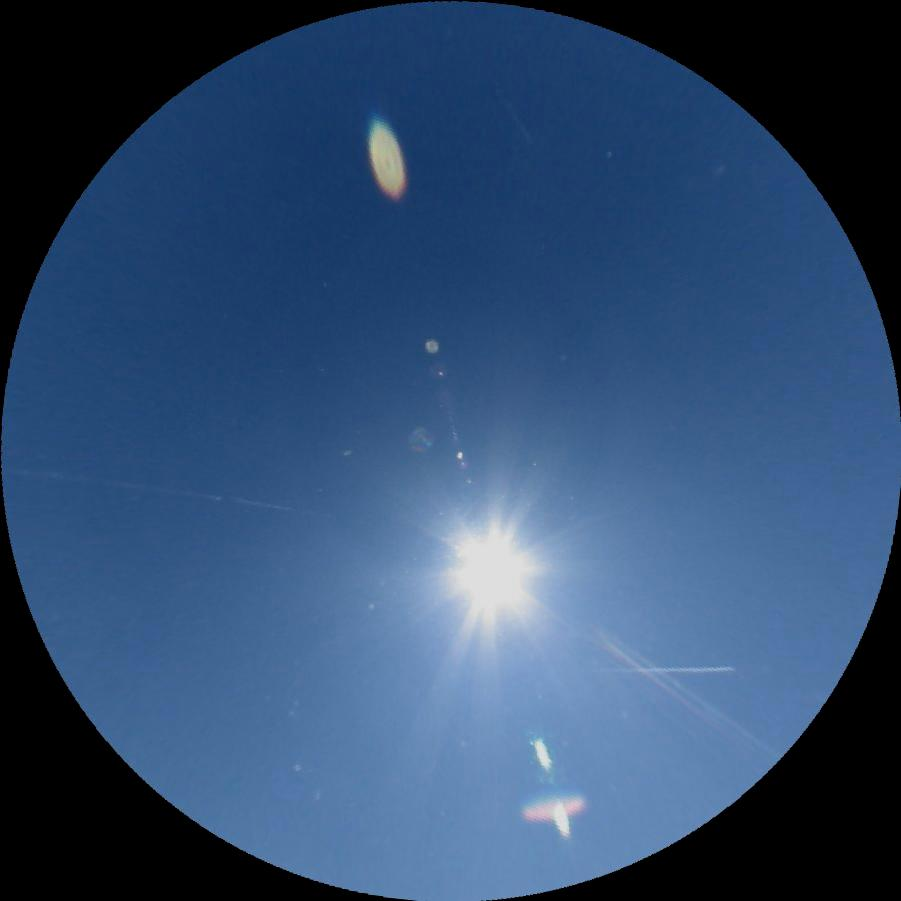contrail young: (491, 85, 536, 145), (592, 663, 734, 676)
parasite: (3, 459, 292, 511), (599, 637, 729, 736)
sun: (441, 518, 540, 622)
